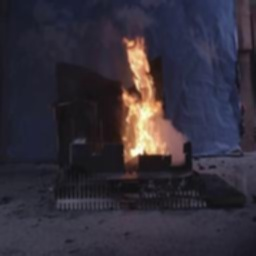fire: (112, 29, 180, 163)
